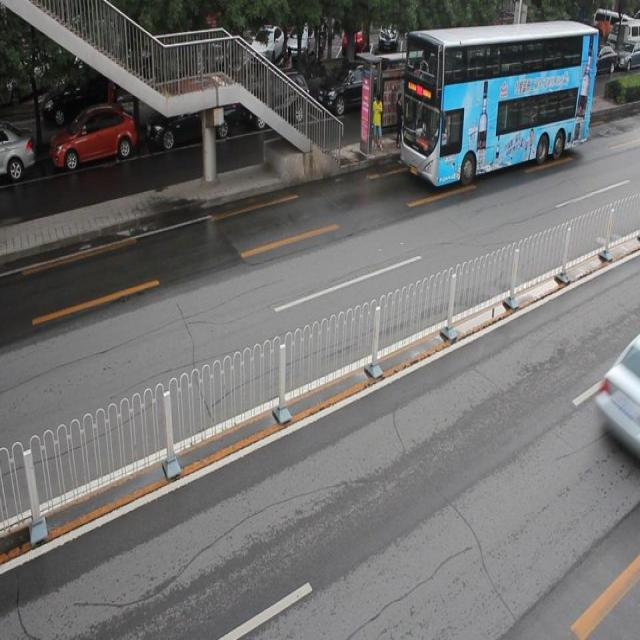car: (50, 105, 136, 172), (145, 93, 237, 152), (314, 63, 389, 123), (244, 72, 308, 128), (1, 124, 34, 181)
van: (399, 20, 597, 186)
